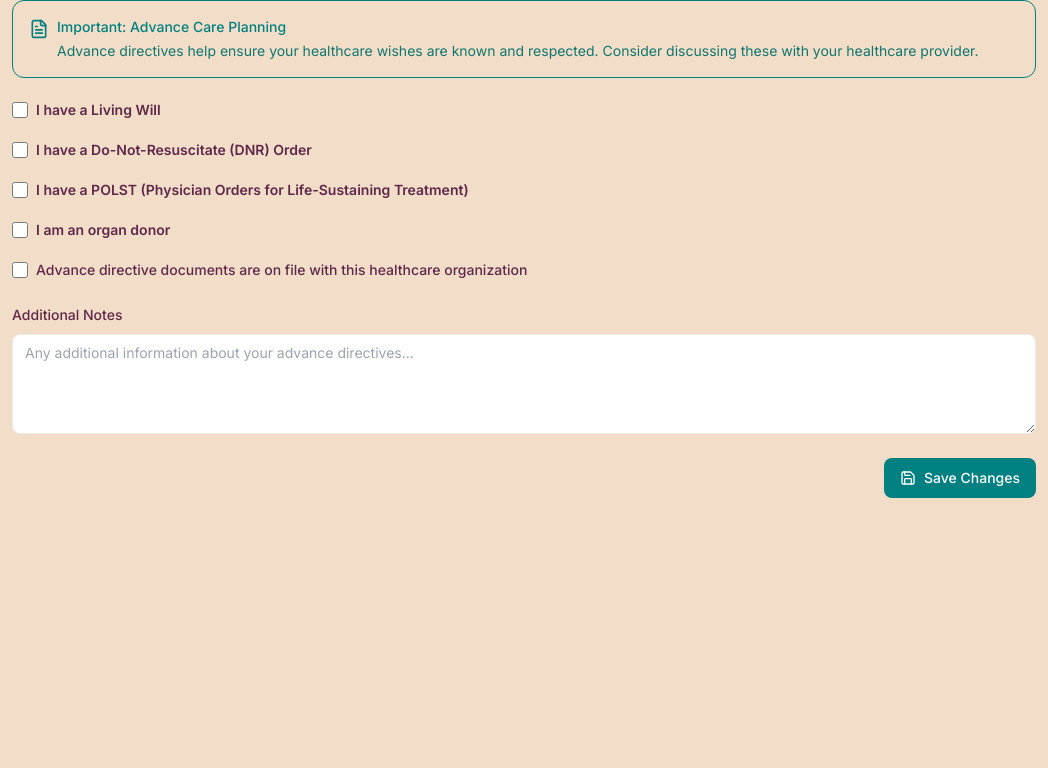
AdvanceDirectivesForm › POLST › should show date field when POLST is checked
This screenshot has width=1048, height=768.
Click the checkbox labelled "I have a POLST": (20, 190) [12, 182, 28, 198]
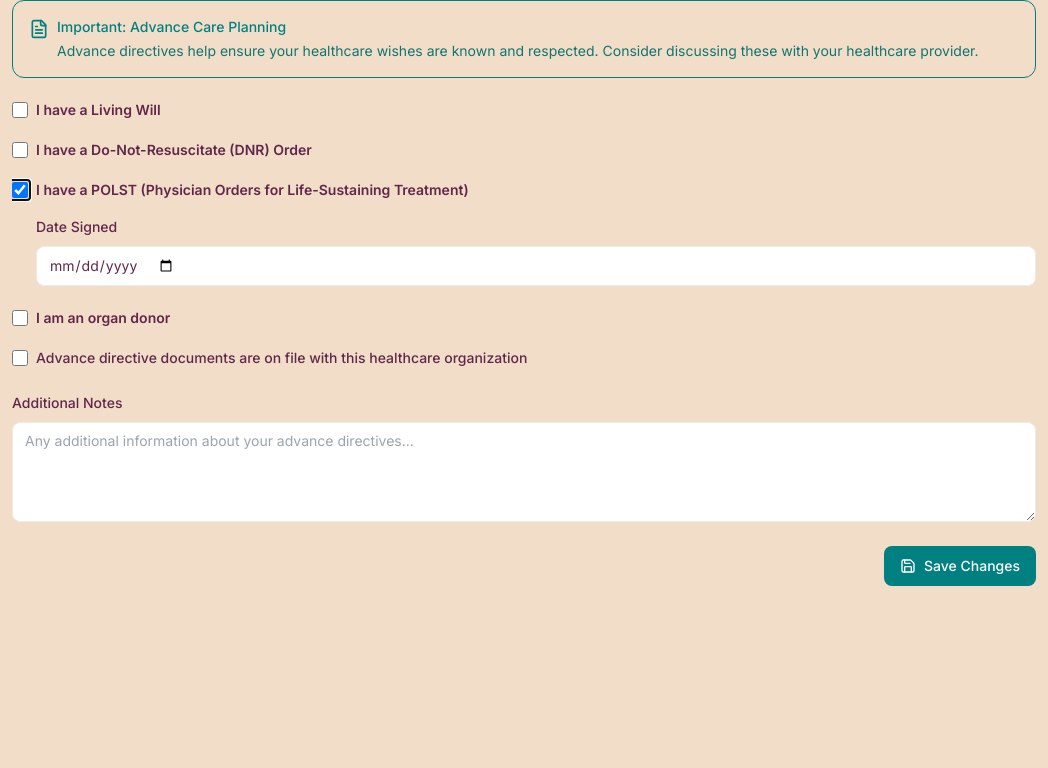
Now the date field labelled "Date Signed" is shown, box [36, 246, 1036, 286]
